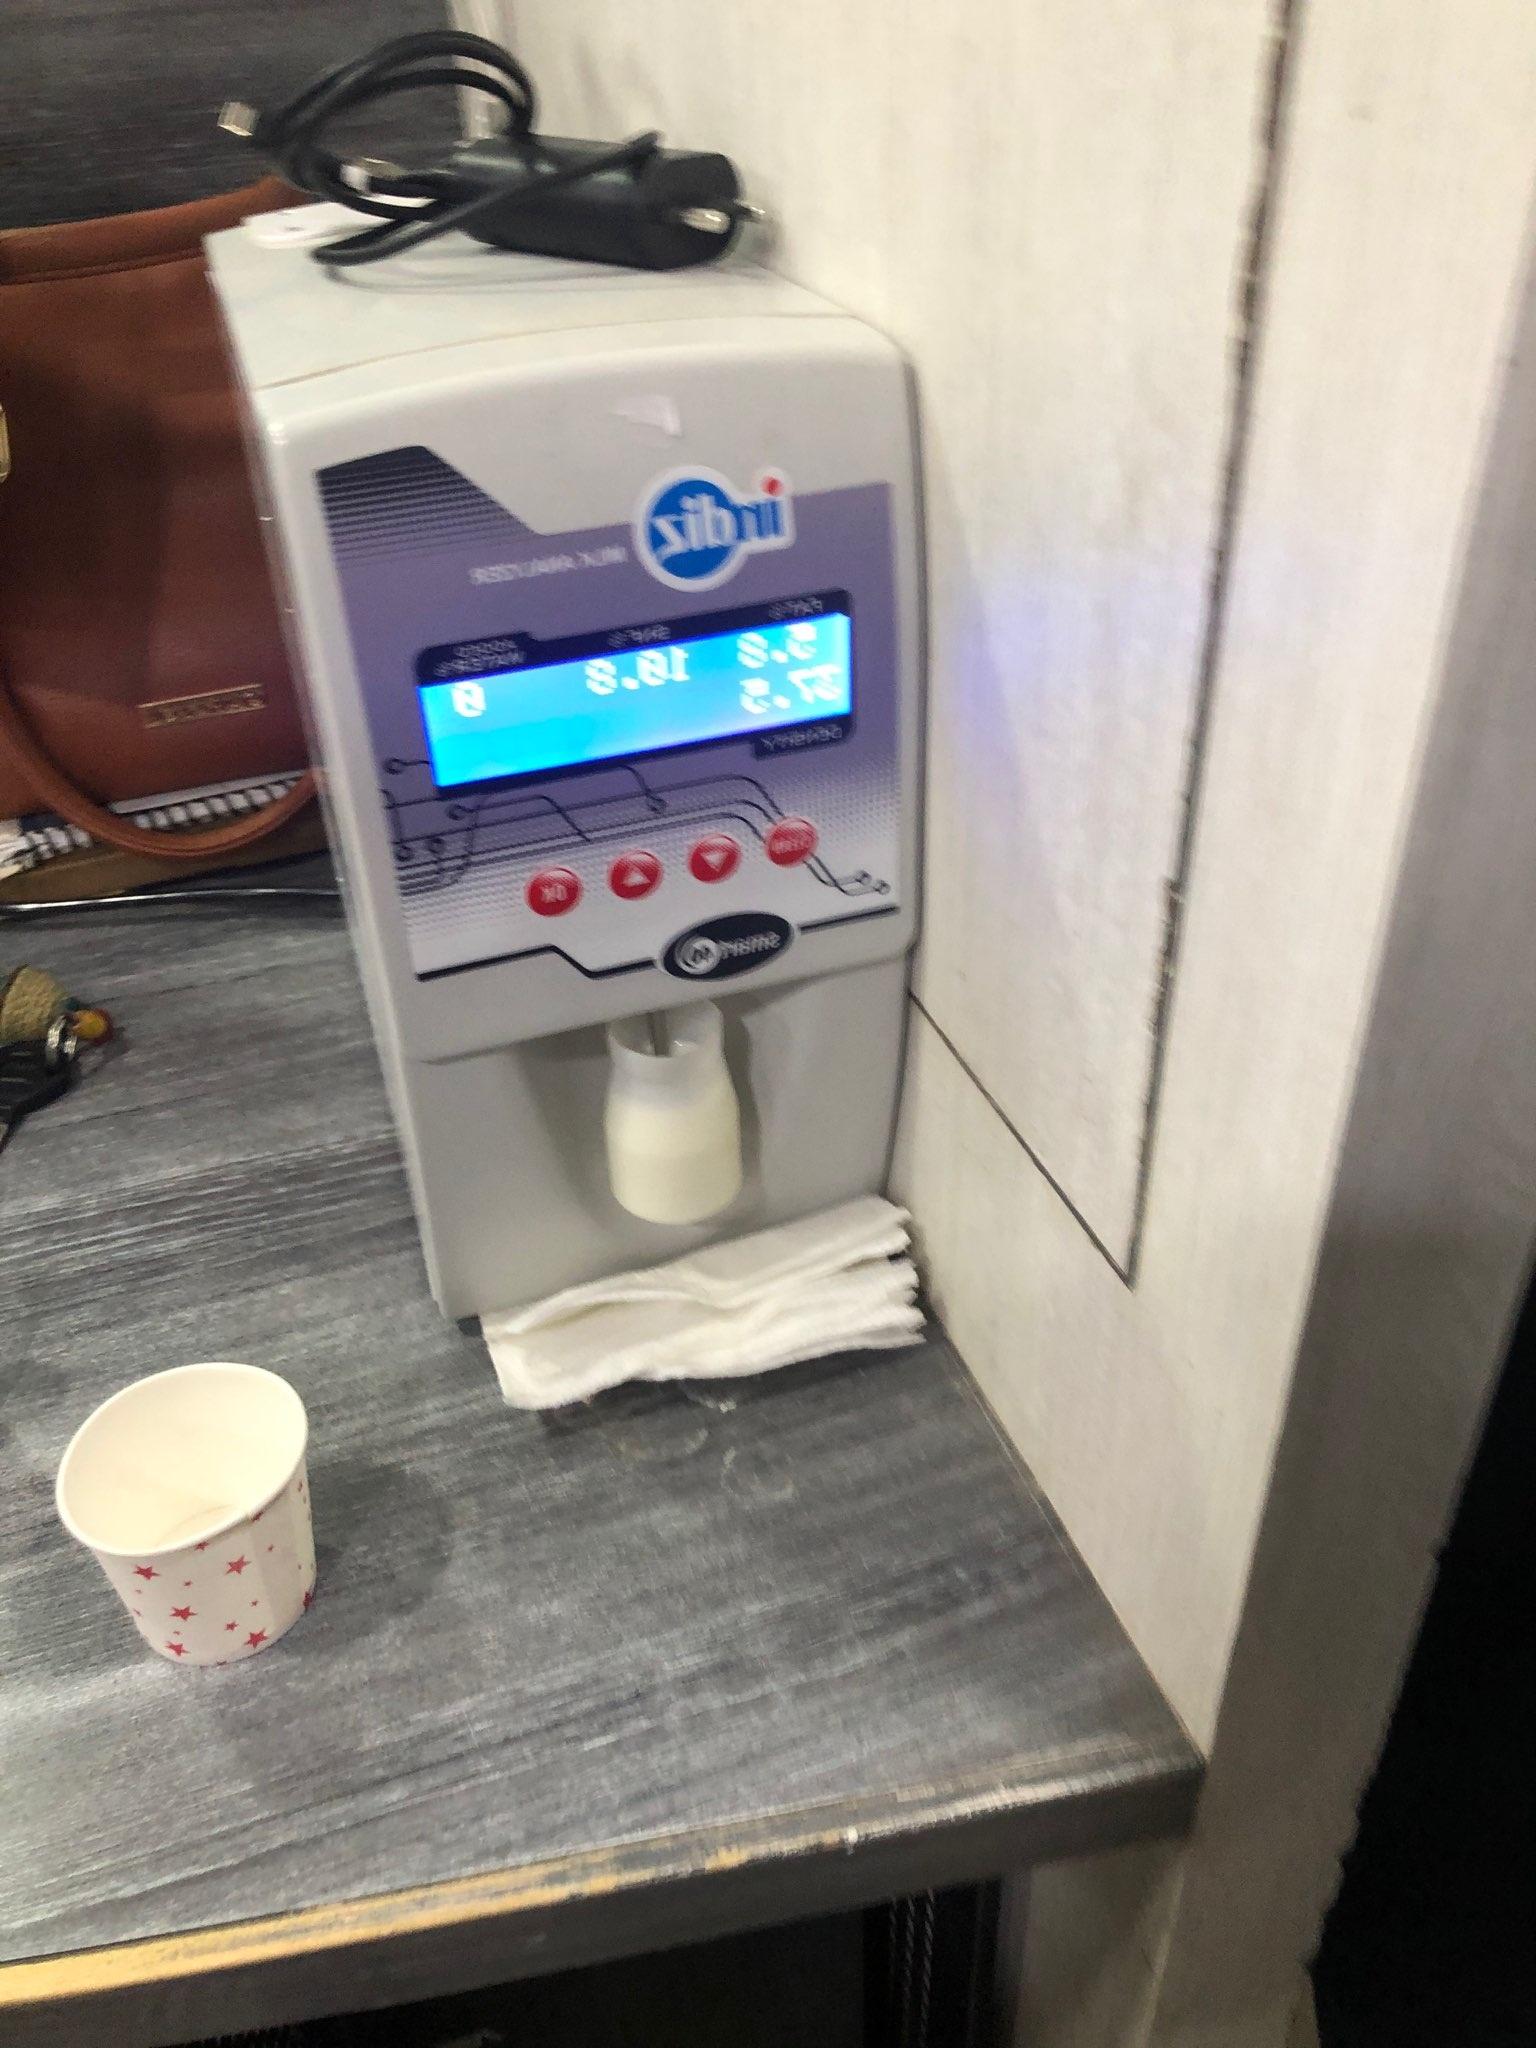lcd: (416, 569, 870, 805)
